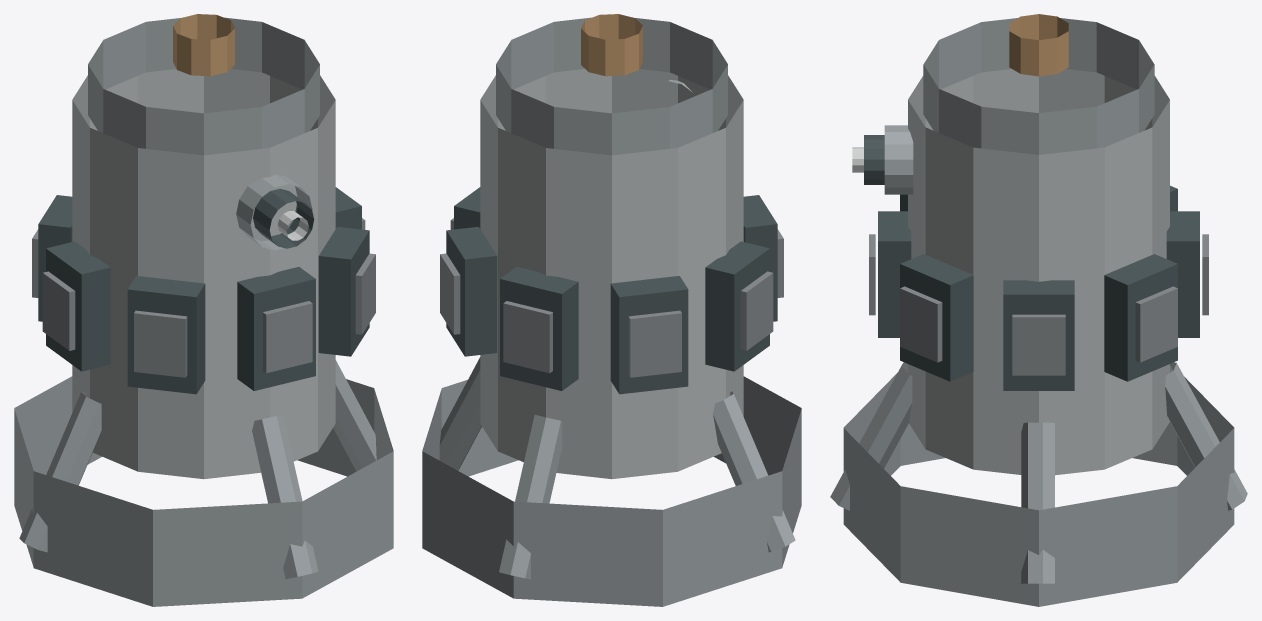
Rendered from 03_Pressure_Purger.obj.
3 views of the same model, side by side, from view 1: azimuth 30°, elevation 25°; view 2: azimuth 150°, elevation 25°; view 3: azimuth 270°, elevation 25° (orthographic).
Visible parts, largest first — view 1: 03_Pressure_Purger; view 2: 03_Pressure_Purger; view 3: 03_Pressure_Purger.
Part boxes in pixels (x1,y1,x2,y2): 03_Pressure_Purger: (14,14,393,606); 03_Pressure_Purger: (422,14,801,606); 03_Pressure_Purger: (830,14,1247,606).
Size of the model in its own units: 1.88 by 2.47 by 1.88.
